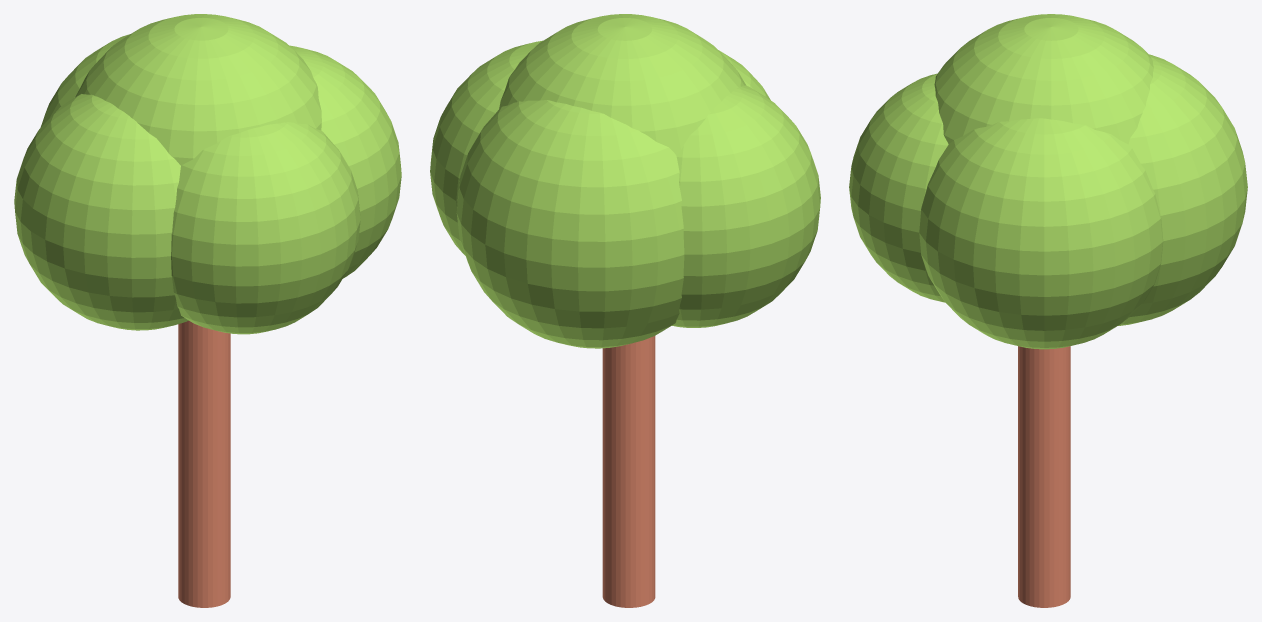
The picture shows the model from 3 angles, left to right: view 1: azimuth 30°, elevation 25°; view 2: azimuth 150°, elevation 25°; view 3: azimuth 270°, elevation 25°; orthographic projection.
Visible parts, largest first — view 1: Sphere.003, Sphere, Sphere.004, Cylinder, Sphere.001, Sphere.002; view 2: Sphere.002, Sphere, Sphere.004, Cylinder, Sphere.001; view 3: Sphere.001, Sphere.004, Sphere.002, Sphere.003, Cylinder.
Part boxes in pixels (x1=…): Sphere.003: x1=171, y1=122, x2=360, y2=334; Sphere: x1=14, y1=94, x2=188, y2=330; Sphere.004: x1=75, y1=14, x2=321, y2=165; Cylinder: x1=178, y1=320, x2=230, y2=607; Sphere.001: x1=290, y1=45, x2=401, y2=278; Sphere.002: x1=40, y1=34, x2=130, y2=127; Sphere.002: x1=456, y1=100, x2=684, y2=348; Sphere: x1=672, y1=85, x2=820, y2=327; Sphere.004: x1=499, y1=14, x2=746, y2=155; Cylinder: x1=602, y1=336, x2=655, y2=607; Sphere.001: x1=430, y1=40, x2=542, y2=255; Sphere.001: x1=919, y1=118, x2=1163, y2=349; Sphere.004: x1=934, y1=14, x2=1153, y2=144; Sphere.002: x1=1118, y1=54, x2=1247, y2=325; Sphere.003: x1=849, y1=73, x2=948, y2=302; Cylinder: x1=1018, y1=346, x2=1070, y2=607.
Size of the model in its own units: 289 by 443 by 281.
